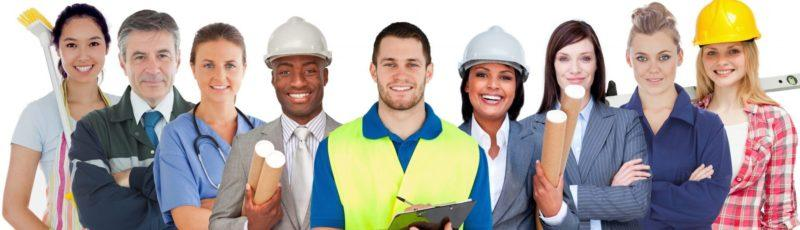helmet: (459, 27, 531, 78), (265, 17, 333, 68), (694, 1, 760, 50)
